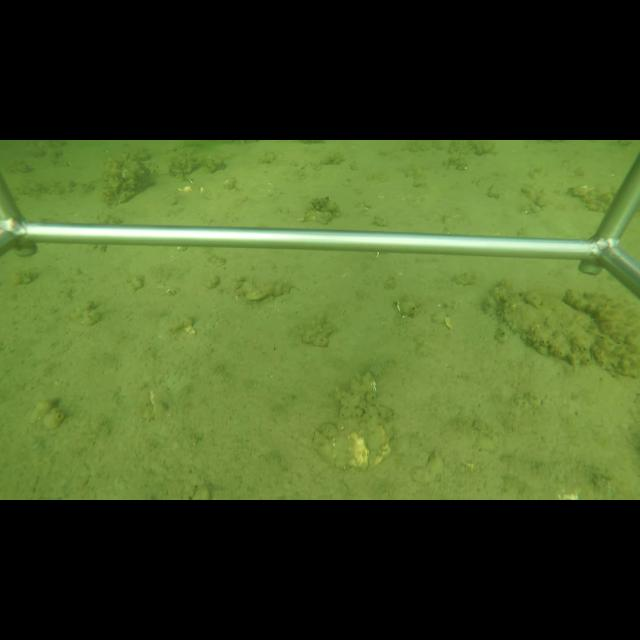Oyster-Closed: (497, 285, 596, 362)
